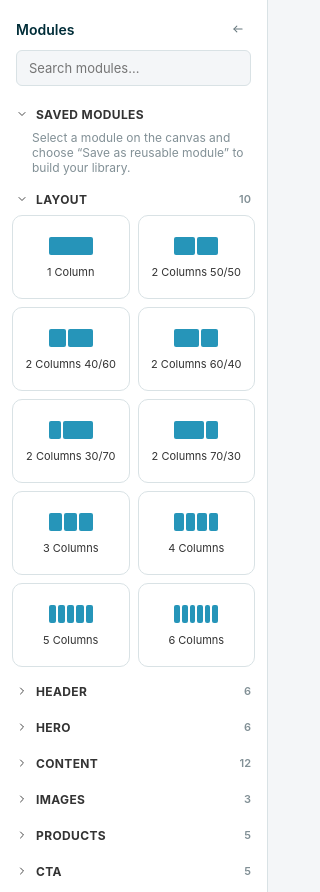
ModulePanel — compact accordion browsing › clearing the search restores the accordion at its previous category
Type "hero" into the search field labelled "Search modules" at (134, 68), box [16,50,251,86]
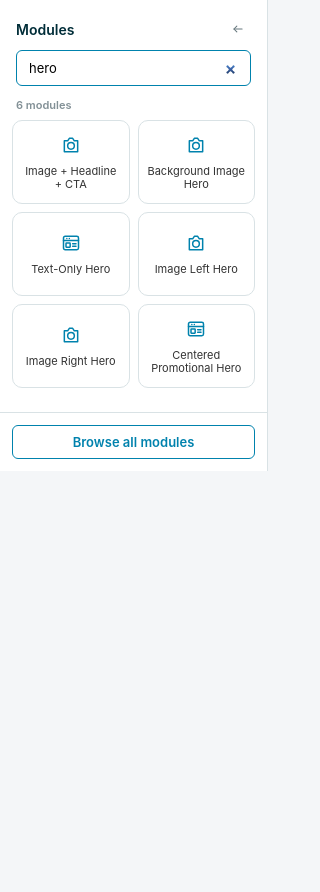
Now the button "Layout" is gone
Clear the search field named "Search modules" at (134, 68), box [16,50,251,86]
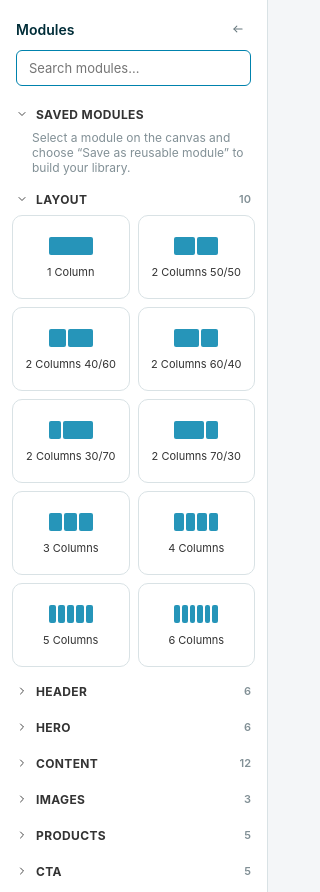
Now the button with aria-label "Add 1 Column" is shown, box [12,215,130,299]
